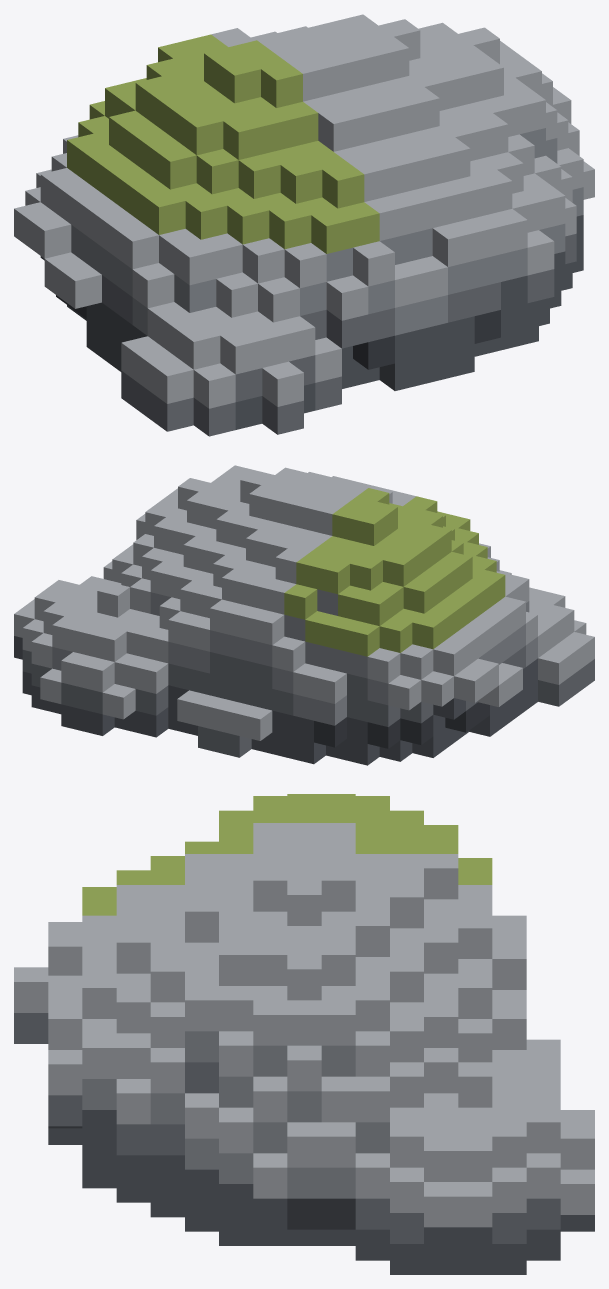
The model's file is SM_Rock_Large.fbx.
3 renders of one model, top to bottom at view 1: azimuth 30°, elevation 25°; view 2: azimuth 150°, elevation 25°; view 3: azimuth 270°, elevation 25°, orthographic. The views are drawn at different scales.
Visible parts, largest first — view 1: SM_Rock_Large; view 2: SM_Rock_Large; view 3: SM_Rock_Large.
Boxes of the visible parts, x1,y1,x2,y2 form: SM_Rock_Large: (14, 14, 594, 436); SM_Rock_Large: (14, 465, 594, 765); SM_Rock_Large: (14, 794, 594, 1274).
Bounding box in the file's own units: 2.1 × 0.9 × 1.7.
1 material, 1 textured.
